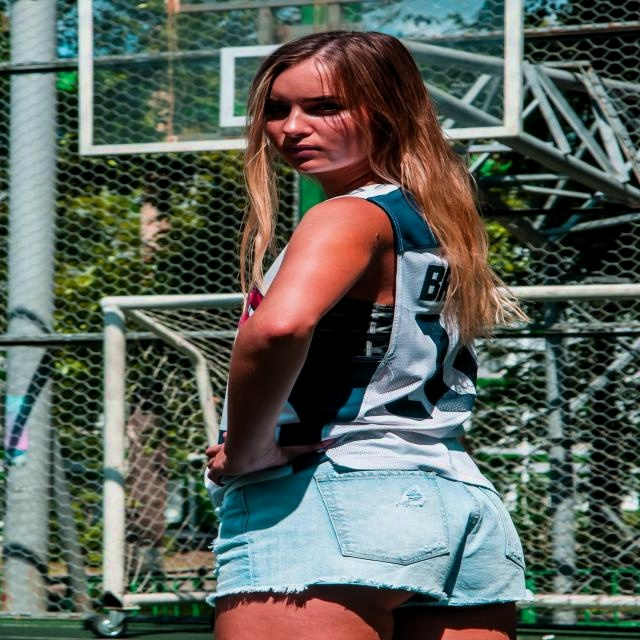Shorts: (200, 429, 532, 640)
Sleeveless: (285, 186, 396, 306)
